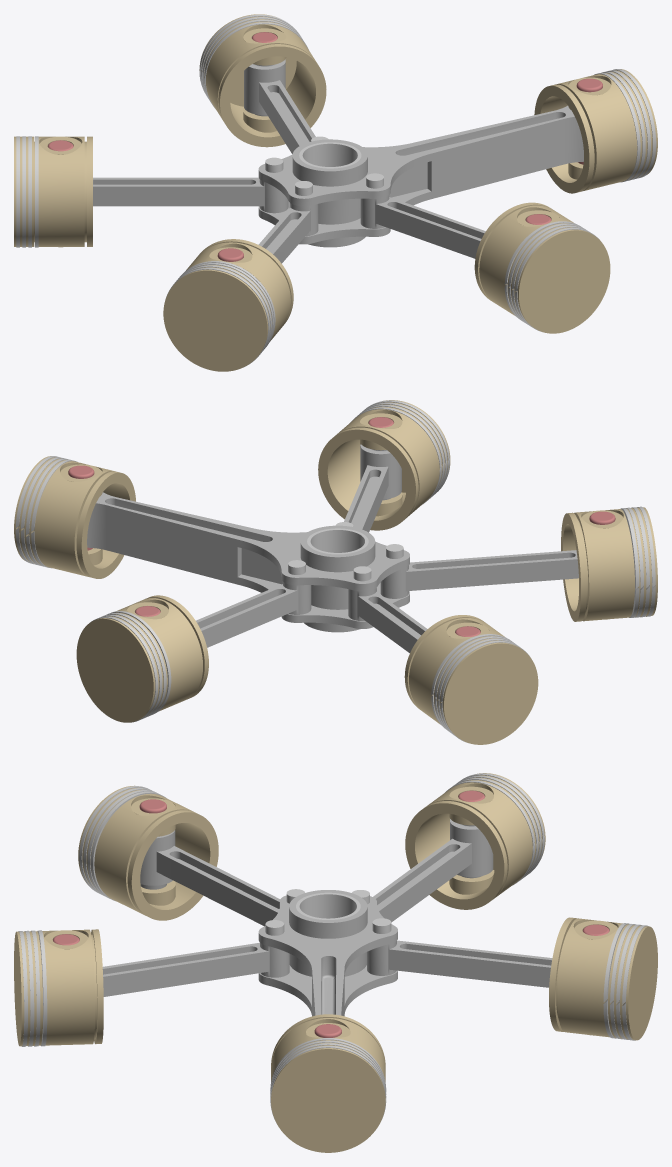
File: radial_engine.glb
3 views of the same model, one above another, from view 1: azimuth 30°, elevation 25°; view 2: azimuth 150°, elevation 25°; view 3: azimuth 270°, elevation 25° (orthographic). The views are drawn at different scales.
Parts seen in each view (by area): view 1: Object_2; view 2: Object_2; view 3: Object_2.
Part boxes in pixels (x1,y1,x2,y2): Object_2: [14, 14, 657, 371]; Object_2: [14, 400, 657, 744]; Object_2: [14, 773, 657, 1152].
Size of the model in its own units: 539 by 95.5 by 517.
